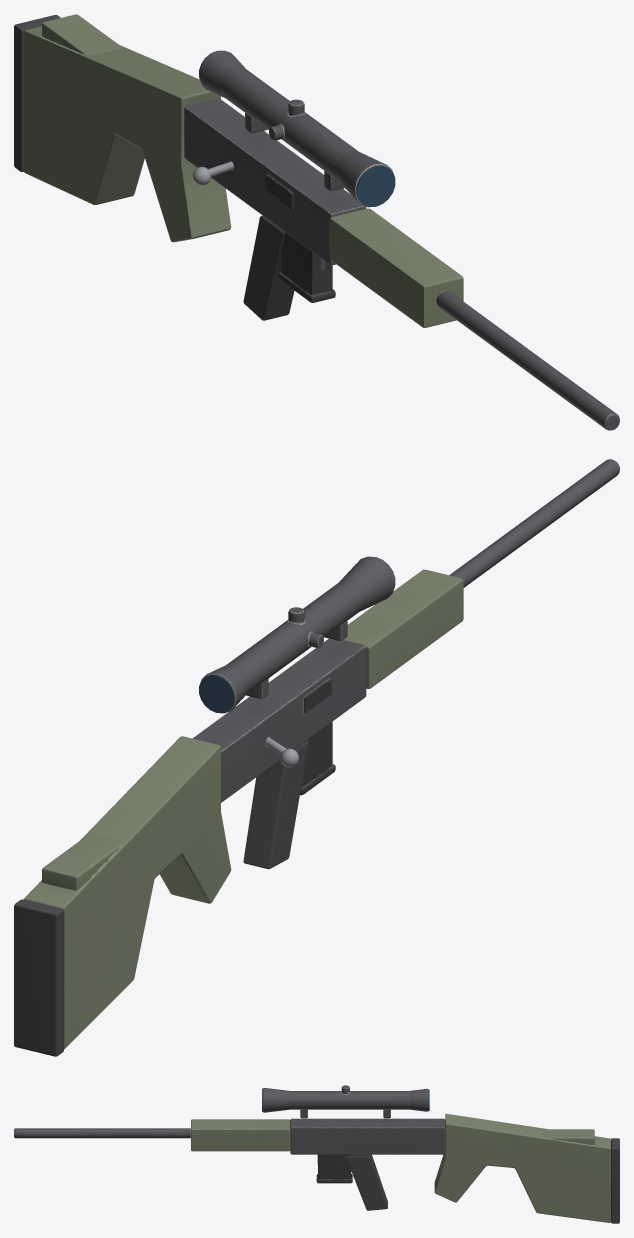
File: ssg08.fbx
3 views of the same model, one above another, from view 1: azimuth 30°, elevation 25°; view 2: azimuth 150°, elevation 25°; view 3: azimuth 270°, elevation 25° (orthographic). The views are drawn at different scales.
Parts seen in each view (by area): view 1: ssg08; view 2: ssg08; view 3: ssg08.
Boxes of the visible parts, x1,y1,x2,y2 form: ssg08: (14,14,619,430); ssg08: (14,459,619,1056); ssg08: (14,1085,619,1223).
Bounding box in the file's own units: 0.0807 × 0.2631 × 1.1.
